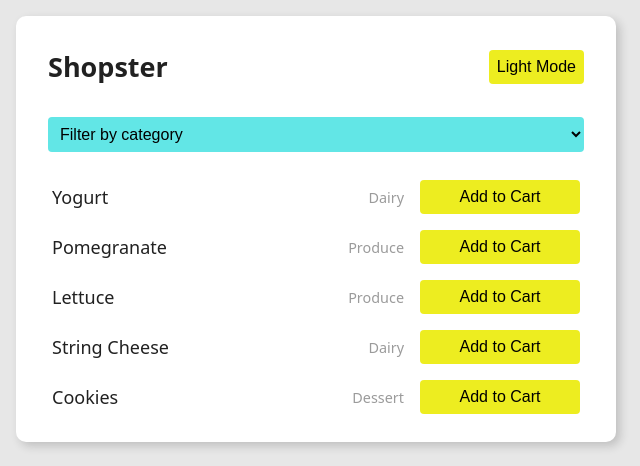
it: changes back to 'light' mode when the button is clicked twice
The width and height of the screenshot is (640, 466).
Click the button "Light Mode": (536, 66) [489, 50, 584, 84]
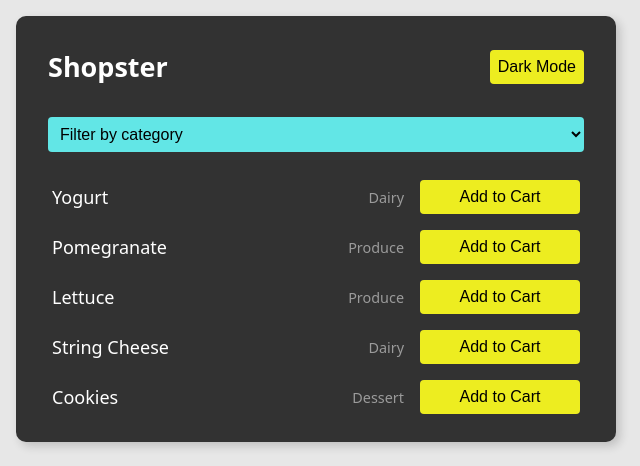
Click the button "Dark Mode": (537, 66) [490, 50, 584, 84]
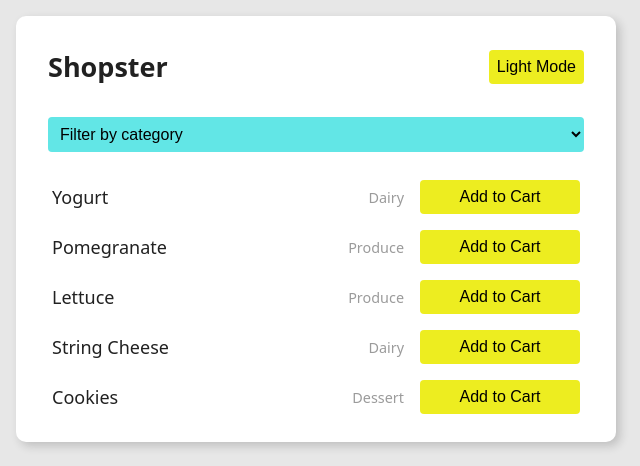
Now the element with class "light" is shown
